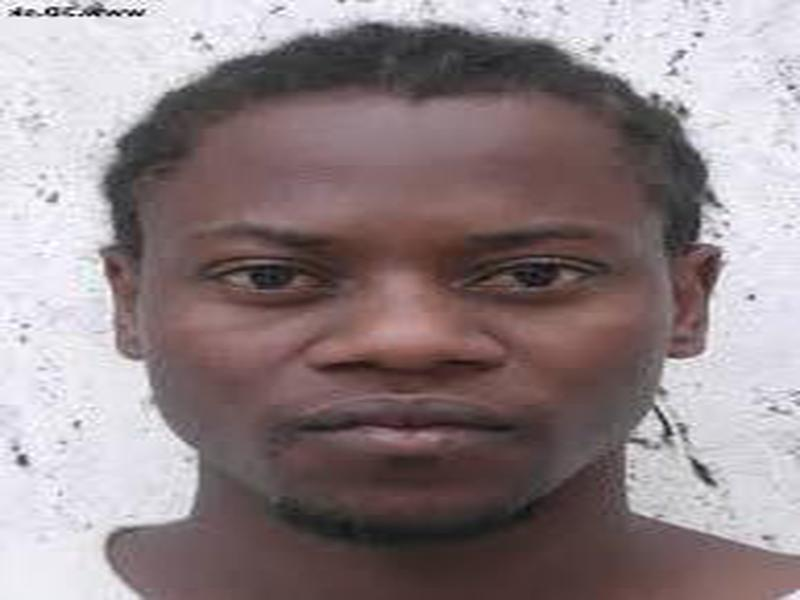without_mask: (134, 140, 672, 540)
